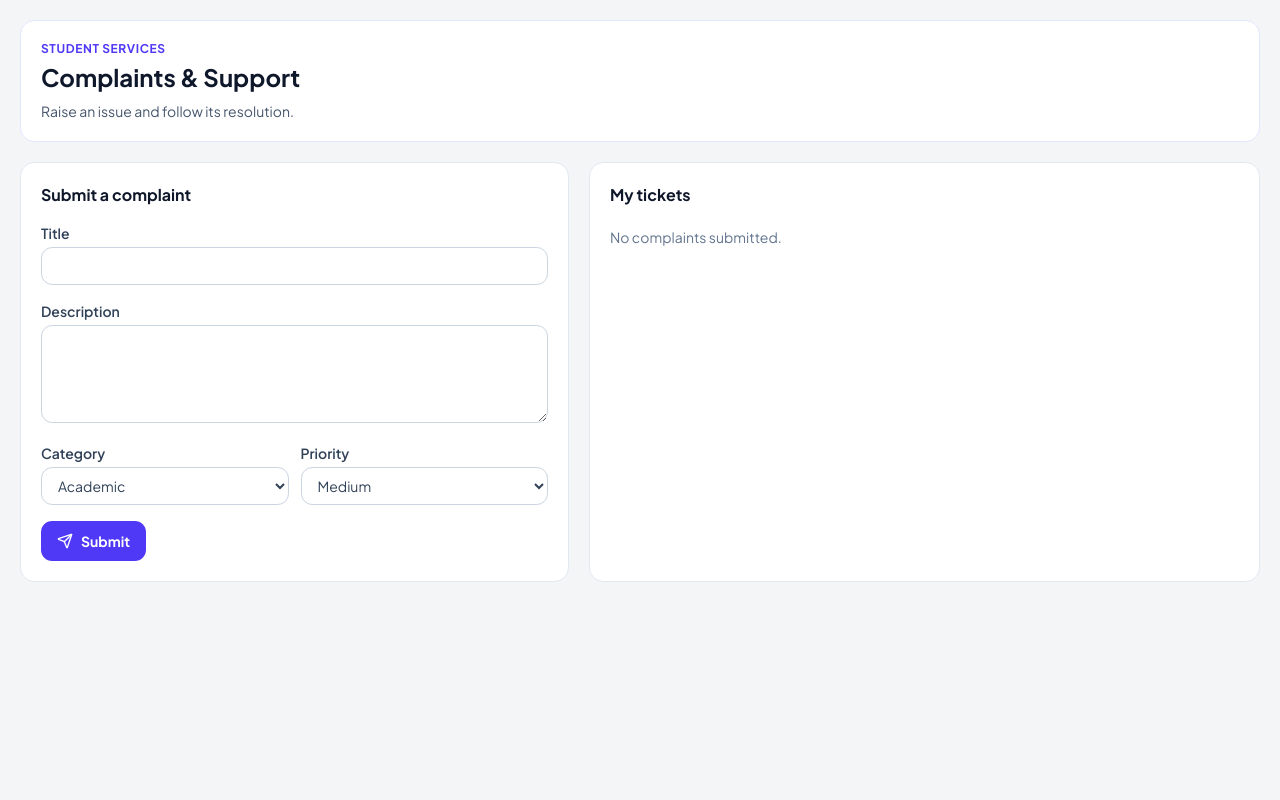
Test: student family-service parity › lets a student submit and track a complaint
Check: the text "No complaints submitted." is shown, box [610, 228, 782, 246]
Type "Need help with homework" into the field named "Complaint title" at x=294, y=266, box [41, 247, 548, 285]
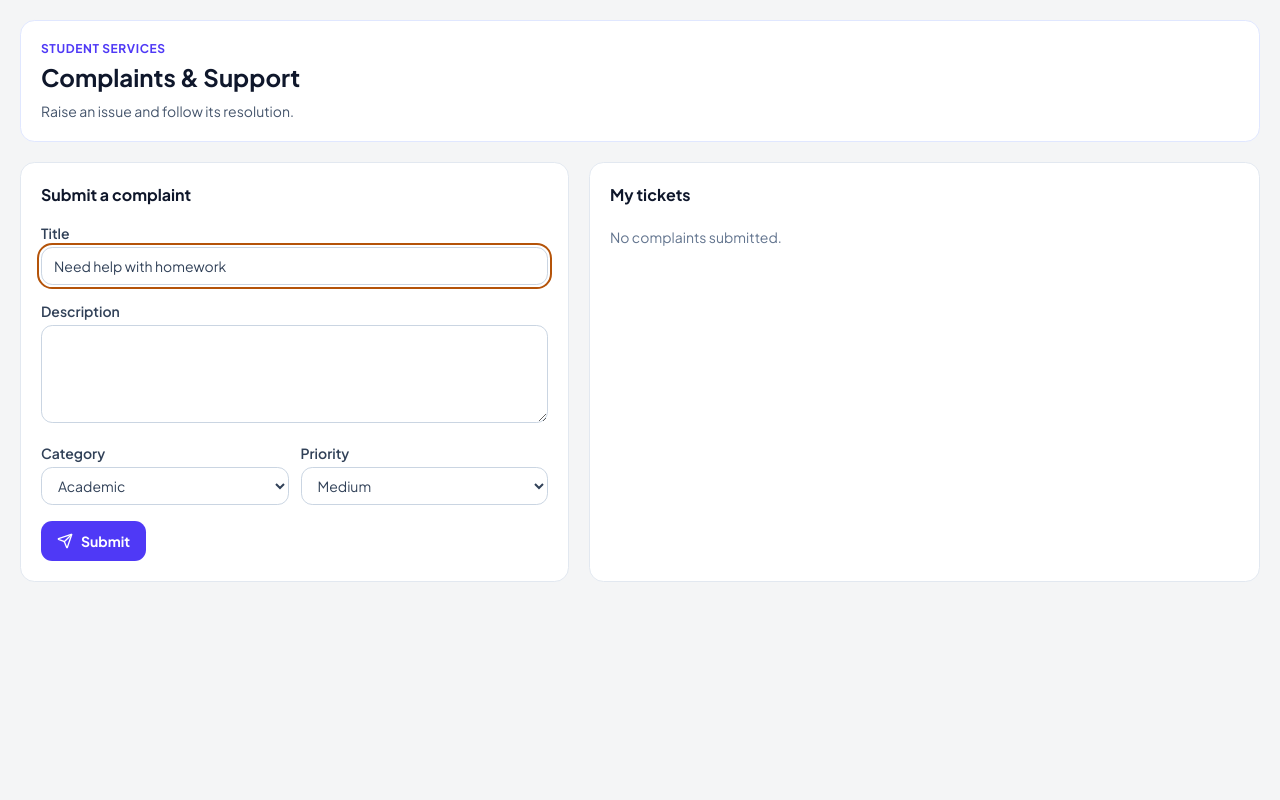
Type "The assignment instructions are unclear." into the text box named "Complaint description" at x=294, y=374, box [41, 325, 548, 423]
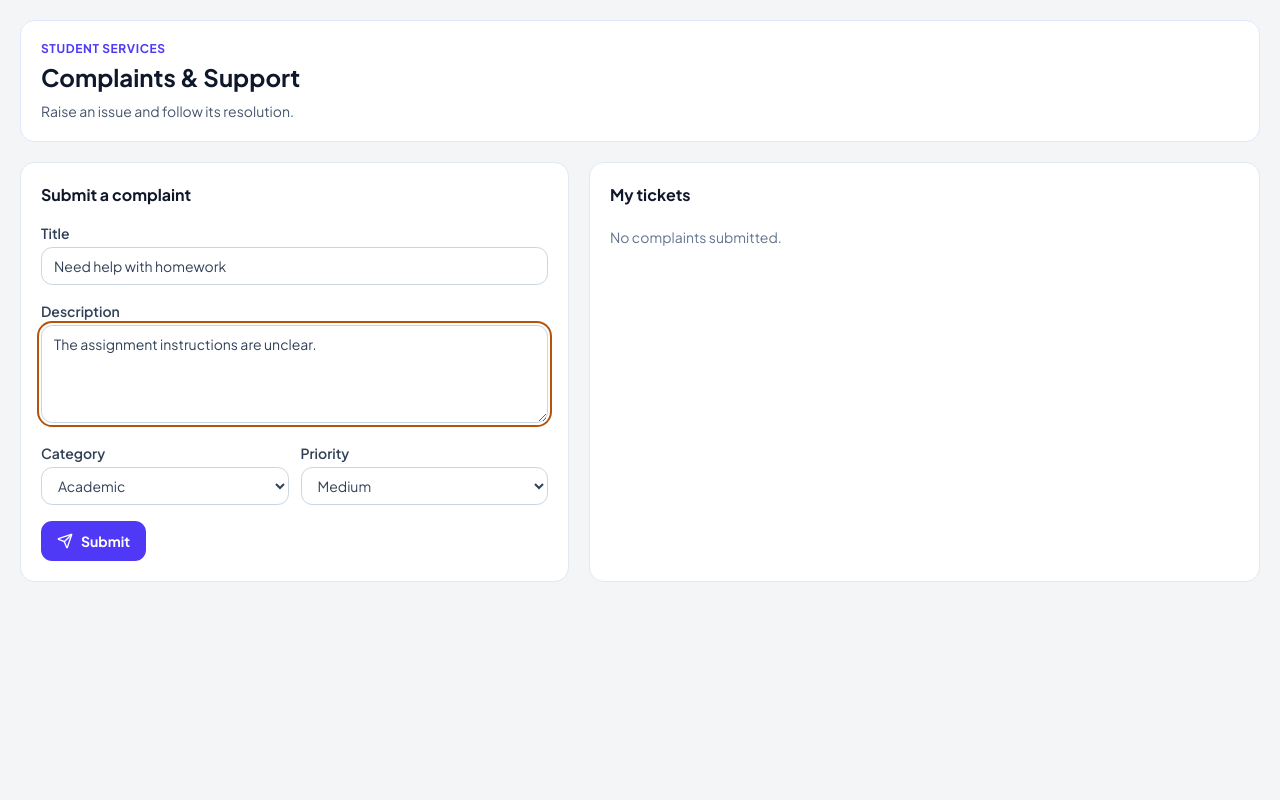
Click the button "Submit" at x=94, y=541, box [41, 521, 146, 561]
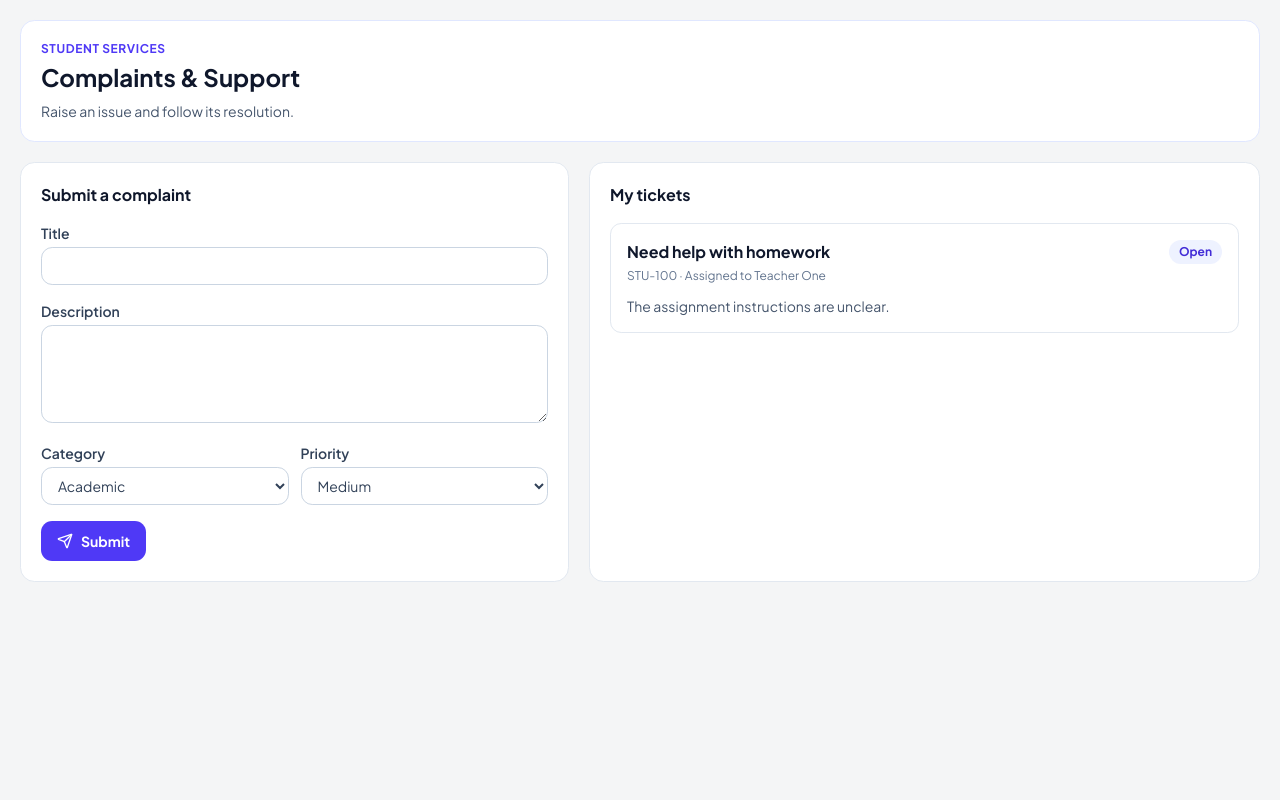
Check: the text "STU-100 · Assigned to Teacher One" is shown, box [627, 268, 830, 284]
